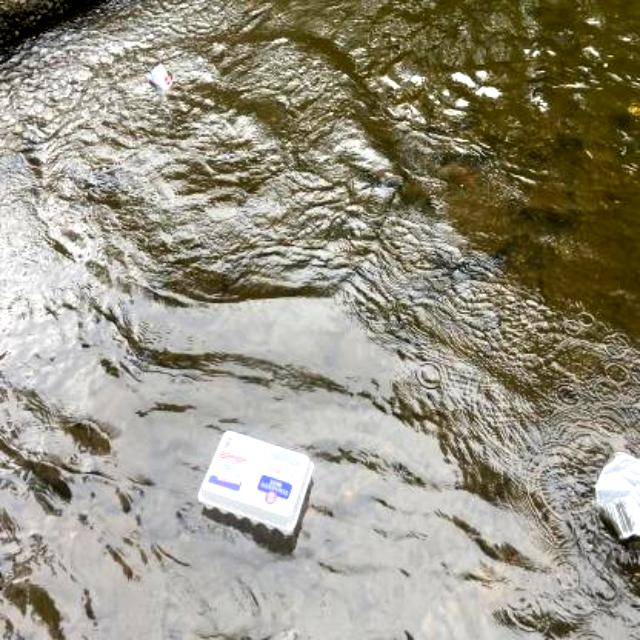Metal: (587, 444, 639, 546), (146, 59, 174, 97)
Plastic: (192, 424, 316, 536)
